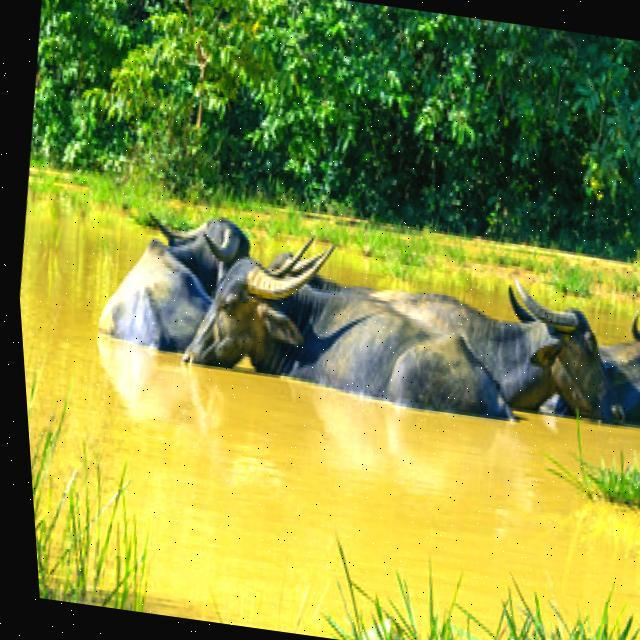Buffalo: (169, 226, 532, 421)
